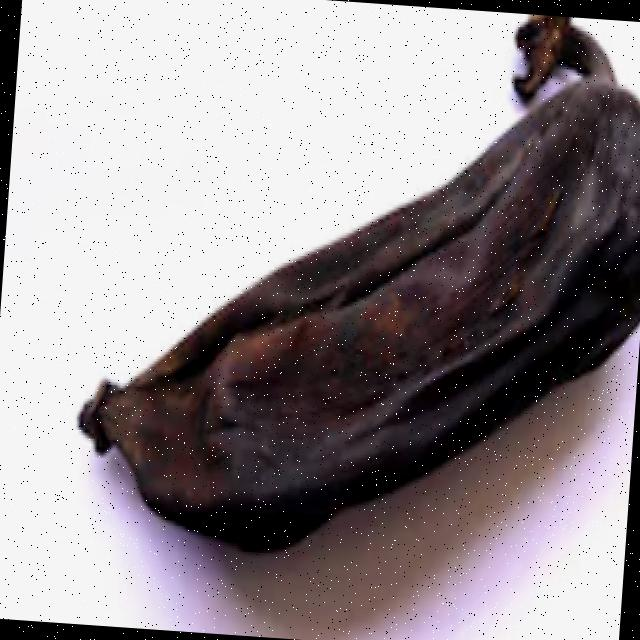Rotten: (63, 0, 640, 594)
